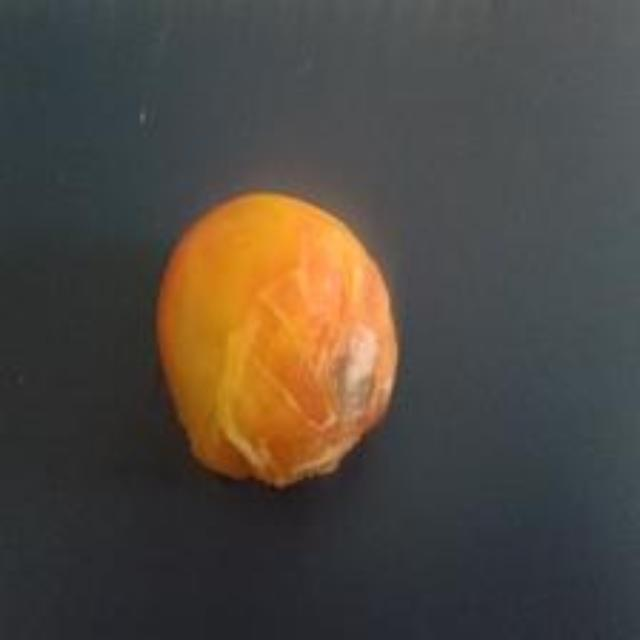defect: (153, 187, 406, 493)
